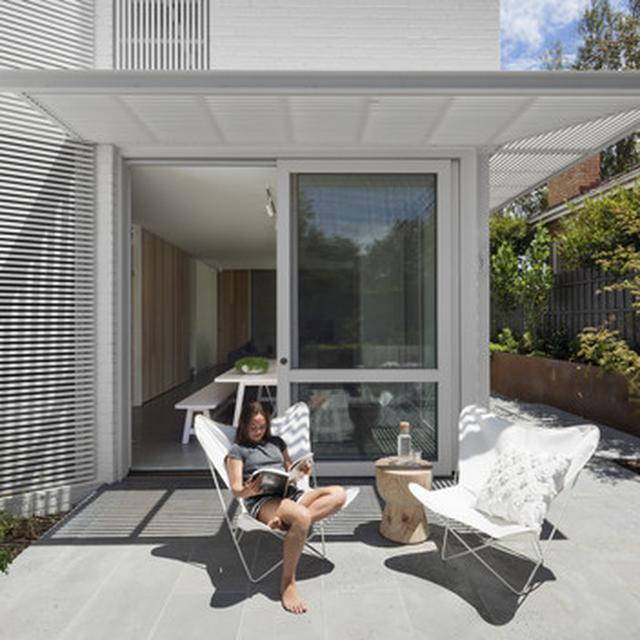building: (0, 0, 497, 509)
